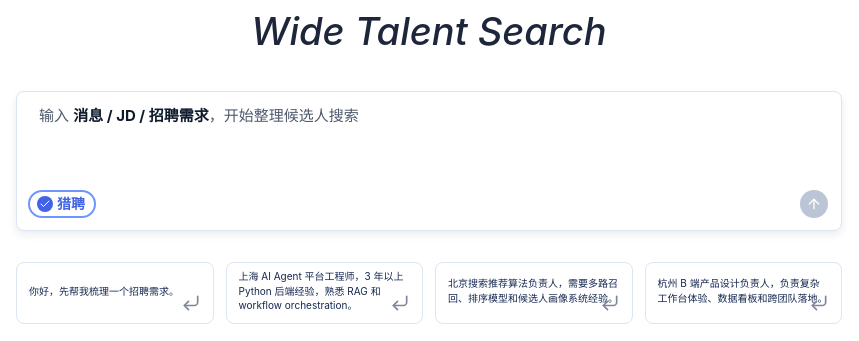
Test case: HomeStartPanel › keeps submit disabled until a message is entered
Expected: the button named "开始寻才" is disabled, [800,190,828,218]
Type "你好，先聊一下招聘目标。" into the text box named "消息、JD 或招聘需求" at (429, 140), box [33,106,825,175]
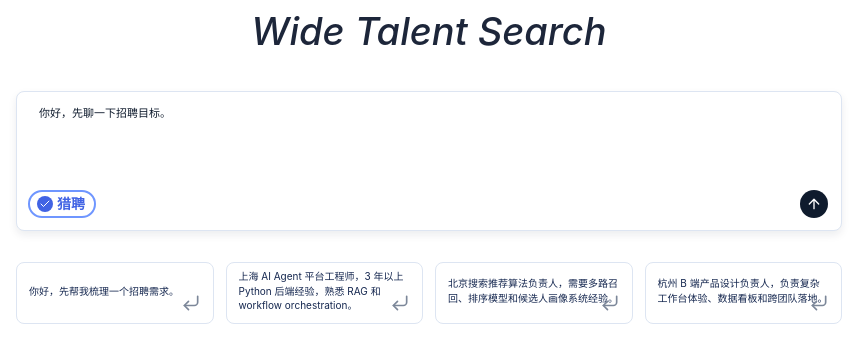
Result: the button named "开始寻才" is enabled at [800,190,828,218]
